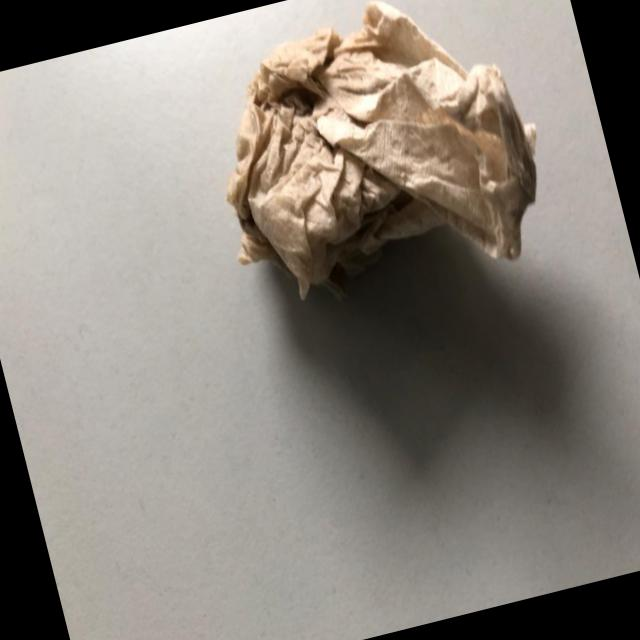organic waste: (183, 0, 569, 329)
